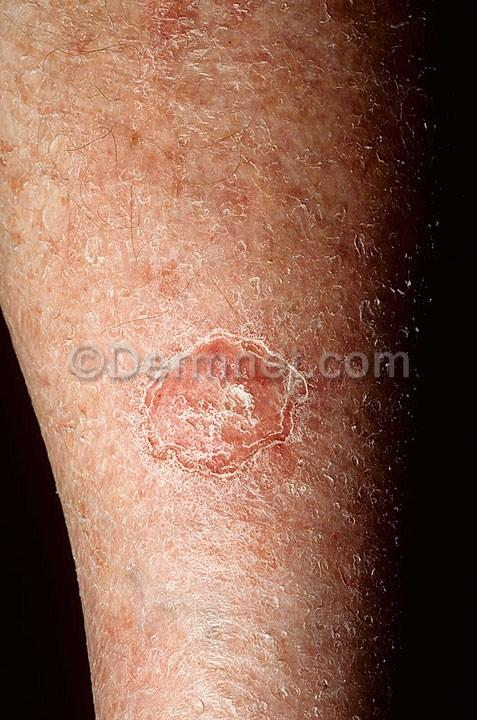Eczema: (108, 311, 330, 490), (142, 484, 292, 586), (126, 127, 264, 236), (214, 234, 364, 322), (281, 483, 384, 597), (274, 142, 365, 266), (212, 593, 303, 713), (9, 0, 132, 80), (253, 50, 375, 128), (136, 601, 216, 716), (8, 59, 100, 158), (4, 238, 106, 327), (126, 0, 236, 77), (305, 591, 382, 700), (123, 79, 269, 132), (38, 341, 99, 449), (86, 602, 148, 700), (125, 250, 212, 313), (0, 157, 73, 232), (258, 9, 371, 53), (74, 486, 130, 573)
